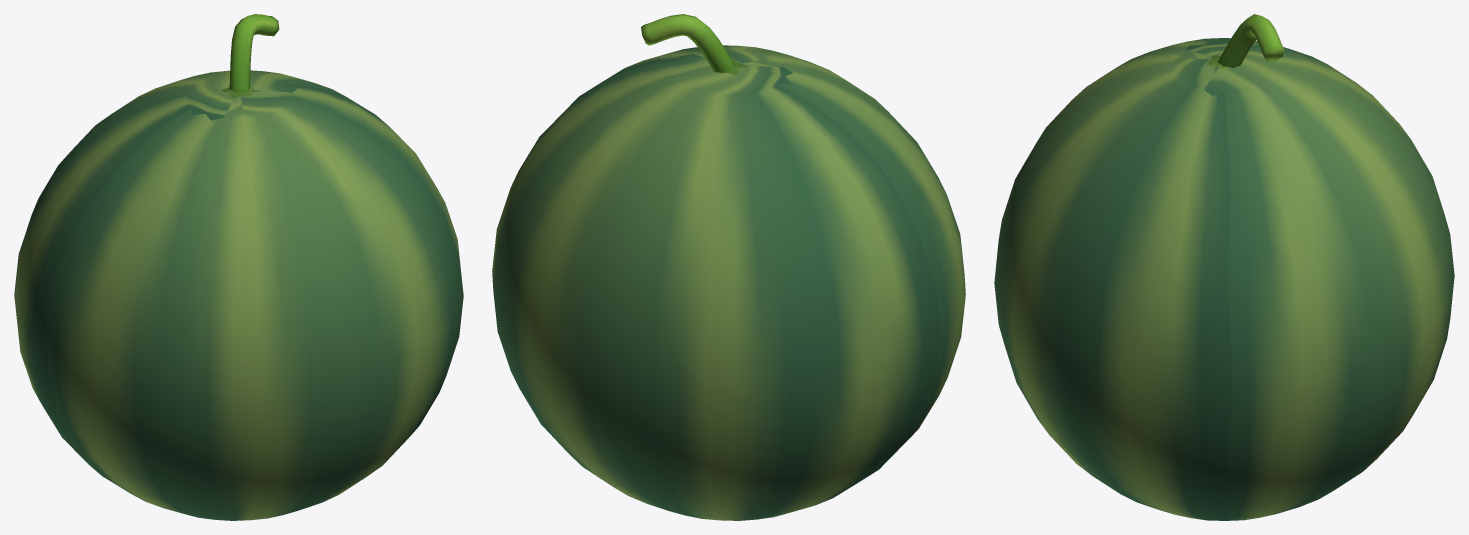
Rendered from NP_Watermelon_Harvest.fbx.
3 renders of one model, left to right at view 1: azimuth 30°, elevation 25°; view 2: azimuth 150°, elevation 25°; view 3: azimuth 270°, elevation 25°, orthographic. The views are drawn at different scales.
Parts seen in each view (by area): view 1: NP_Watermelon_Harvest; view 2: NP_Watermelon_Harvest; view 3: NP_Watermelon_Harvest.
Boxes of the visible parts, x1,y1,x2,y2 form: NP_Watermelon_Harvest: (14,14,463,520); NP_Watermelon_Harvest: (492,14,965,520); NP_Watermelon_Harvest: (994,14,1454,520).
Size of the model in its own units: 39 by 44.05 by 37.
